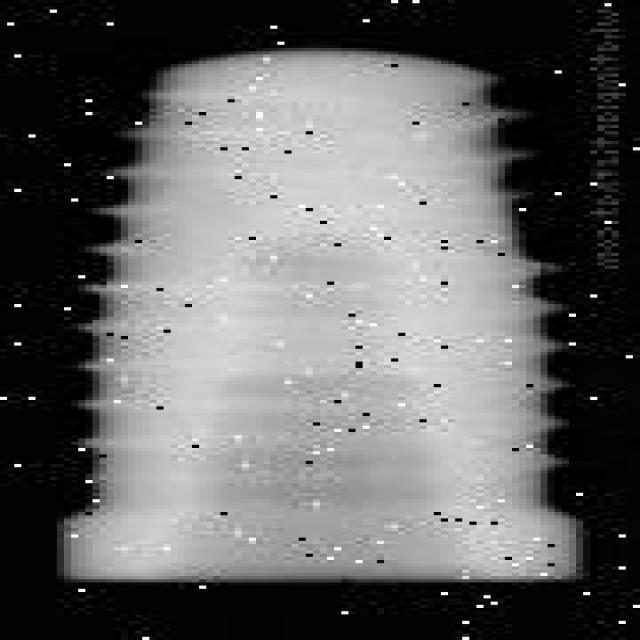Retained root: (54, 46, 583, 579)
